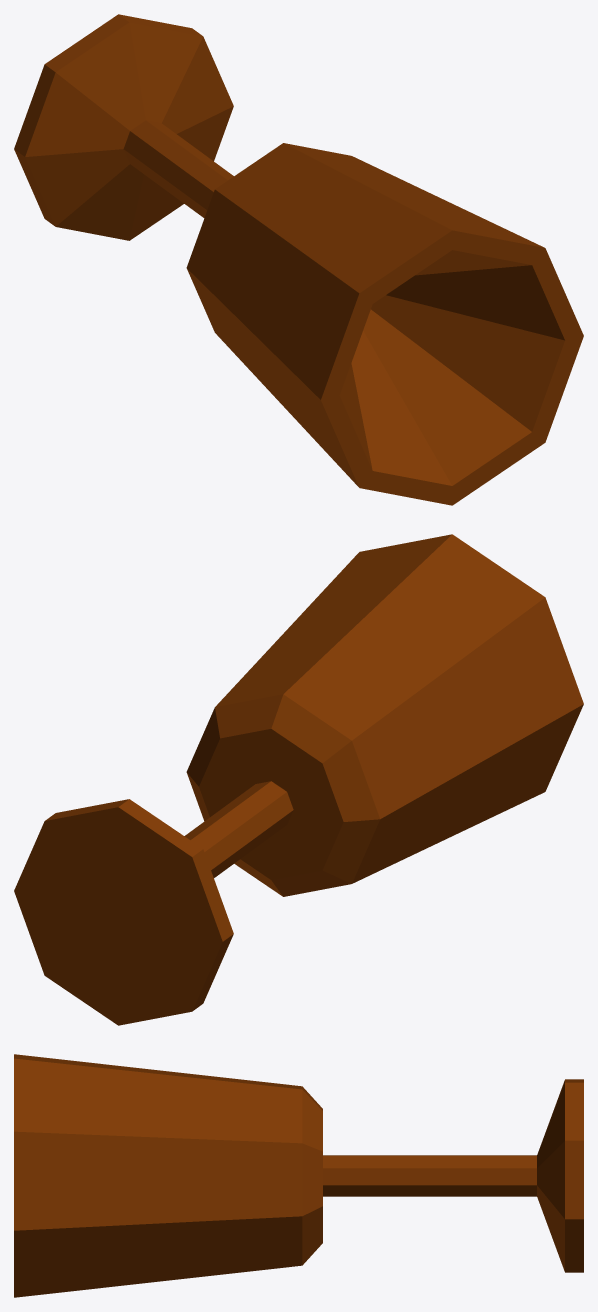
Rendered from rb_02_hovercraft_cup01.glb.
The picture shows the model from 3 angles, top to bottom: view 1: azimuth 30°, elevation 25°; view 2: azimuth 150°, elevation 25°; view 3: azimuth 270°, elevation 25°; orthographic projection. The views are drawn at different scales.
Parts seen in each view (by area): view 1: rb_02_hovercraft_cup01; view 2: rb_02_hovercraft_cup01; view 3: rb_02_hovercraft_cup01.
Boxes of the visible parts, left/top/right/bottom form: rb_02_hovercraft_cup01: left=14, top=14, right=583, bottom=505; rb_02_hovercraft_cup01: left=14, top=534, right=583, bottom=1025; rb_02_hovercraft_cup01: left=14, top=1054, right=583, bottom=1297.
Size of the model in its own units: 0.1622 by 0.1622 by 0.3567.
